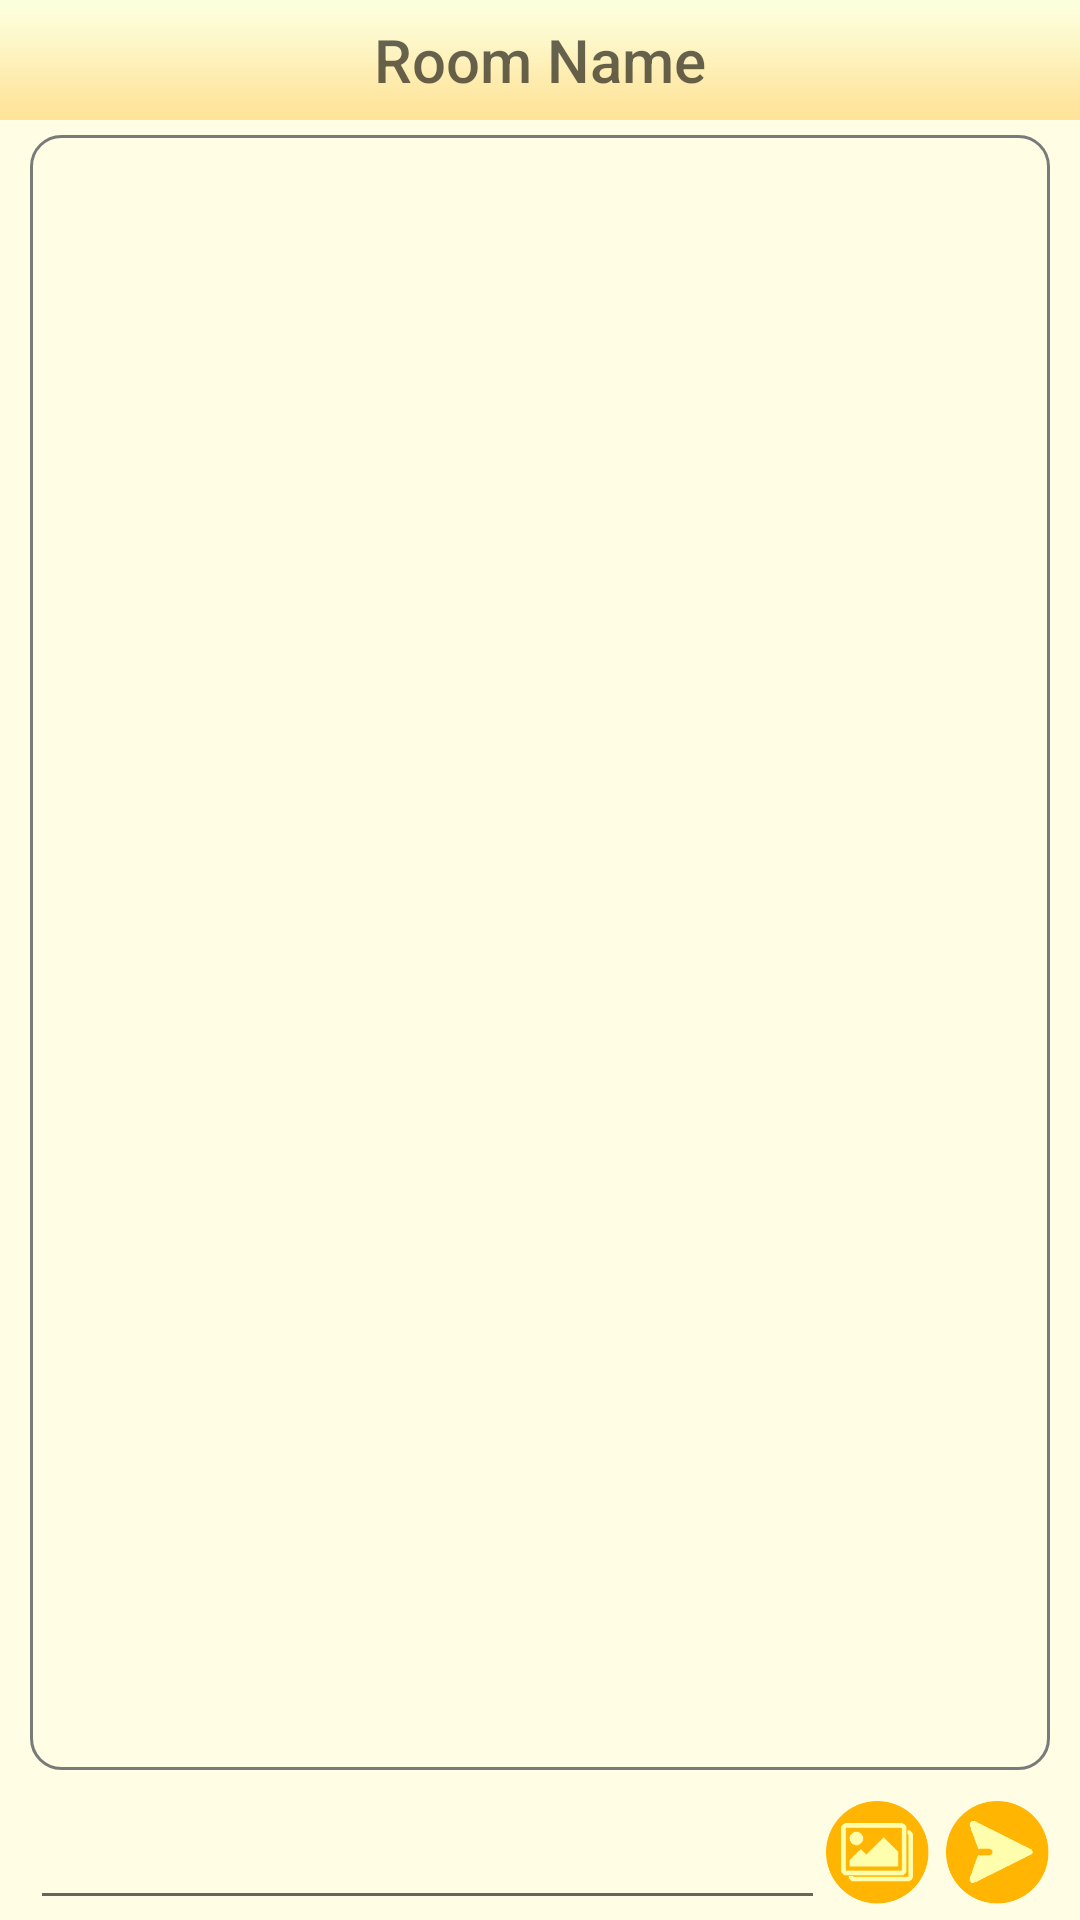

Named icons in this screenshot (1080 x 1920) and their bounding boxes, detection(x1, y1, x2, y2):
chatsend: detection(946, 1801, 1049, 1904)
galleryicon: detection(826, 1801, 929, 1904)
